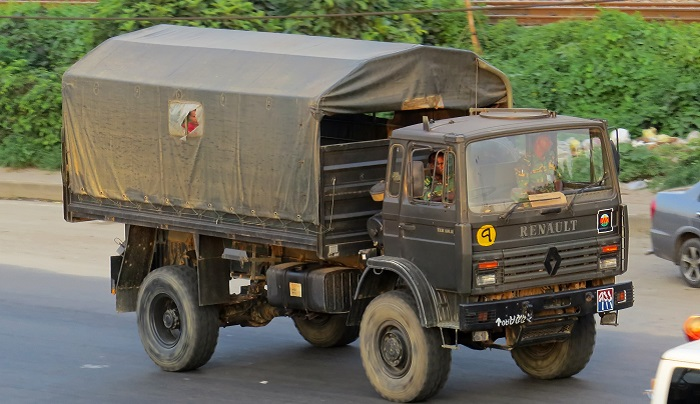army vehicle: (61, 22, 634, 404)
